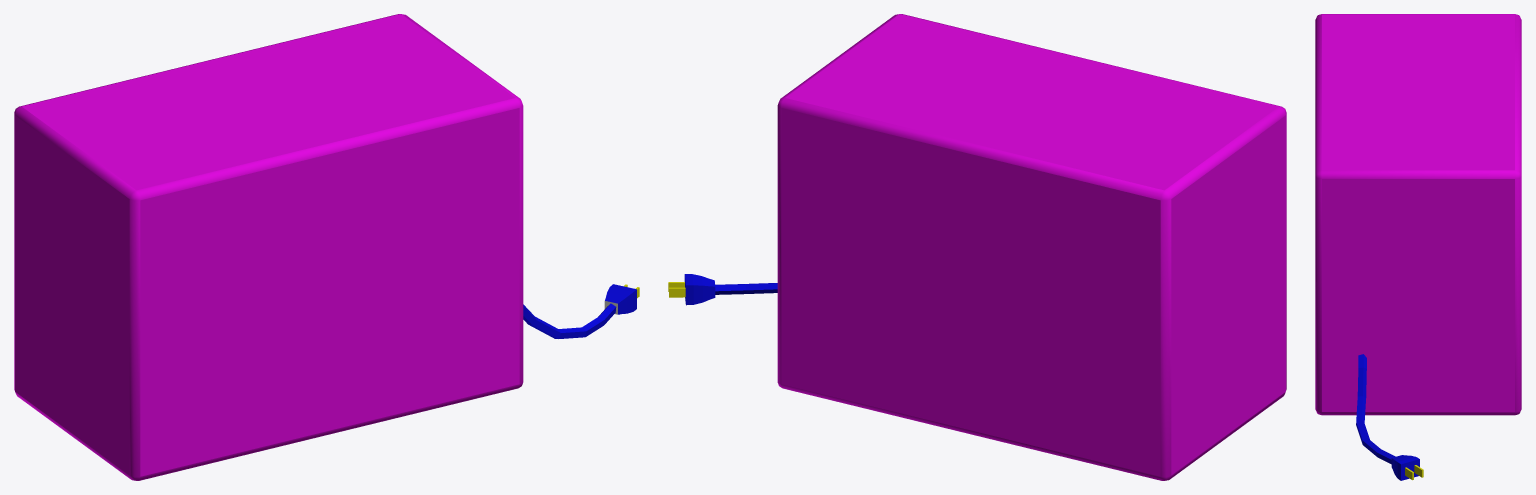
The model's file is UPS Unit.fbx.
3 renders of one model, left to right at view 1: azimuth 30°, elevation 25°; view 2: azimuth 150°, elevation 25°; view 3: azimuth 270°, elevation 25°, orthographic. The views are drawn at different scales.
Visible parts, largest first — view 1: Cube.010; view 2: Cube.010; view 3: Cube.010.
Part boxes in pixels (bbox=[...]): Cube.010: bbox=[14, 14, 639, 480]; Cube.010: bbox=[668, 14, 1286, 480]; Cube.010: bbox=[1315, 14, 1521, 480].
Size of the model in its own units: 40.24 by 19.81 by 15.14.
